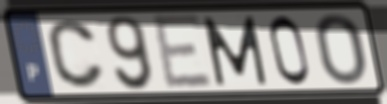0: (267, 13, 311, 88)
9: (103, 13, 153, 93)
C: (45, 18, 107, 90)
E: (149, 12, 215, 93)
M: (200, 14, 270, 89)
O: (313, 11, 369, 87)
